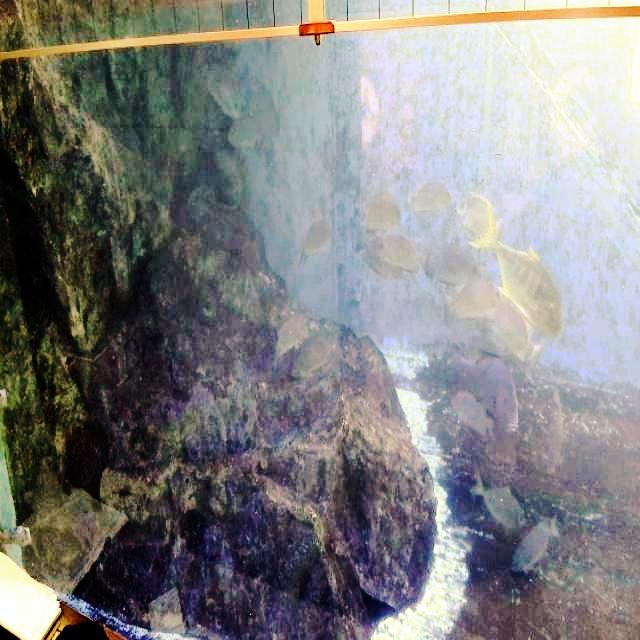gold snapper: (468, 201, 570, 345), (506, 506, 563, 593), (466, 462, 530, 534), (480, 294, 534, 372), (356, 231, 423, 286), (442, 275, 504, 330), (408, 174, 460, 223), (424, 242, 486, 282), (296, 211, 334, 265), (363, 186, 405, 230)
